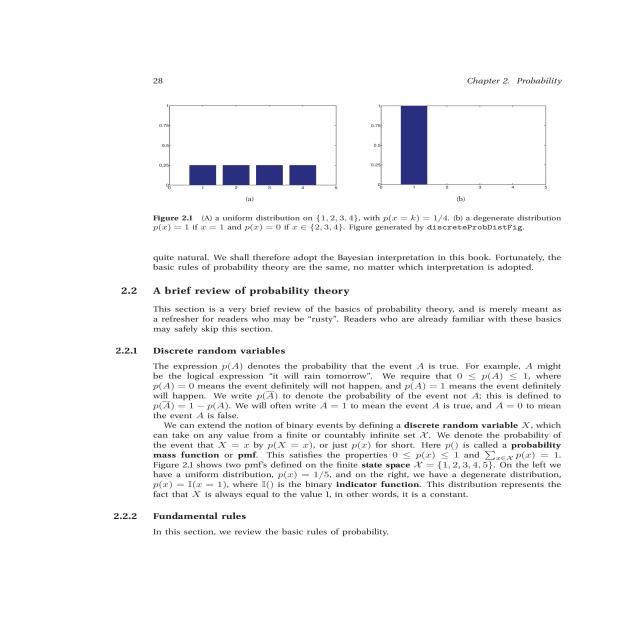diagram: (120, 97, 600, 241)
